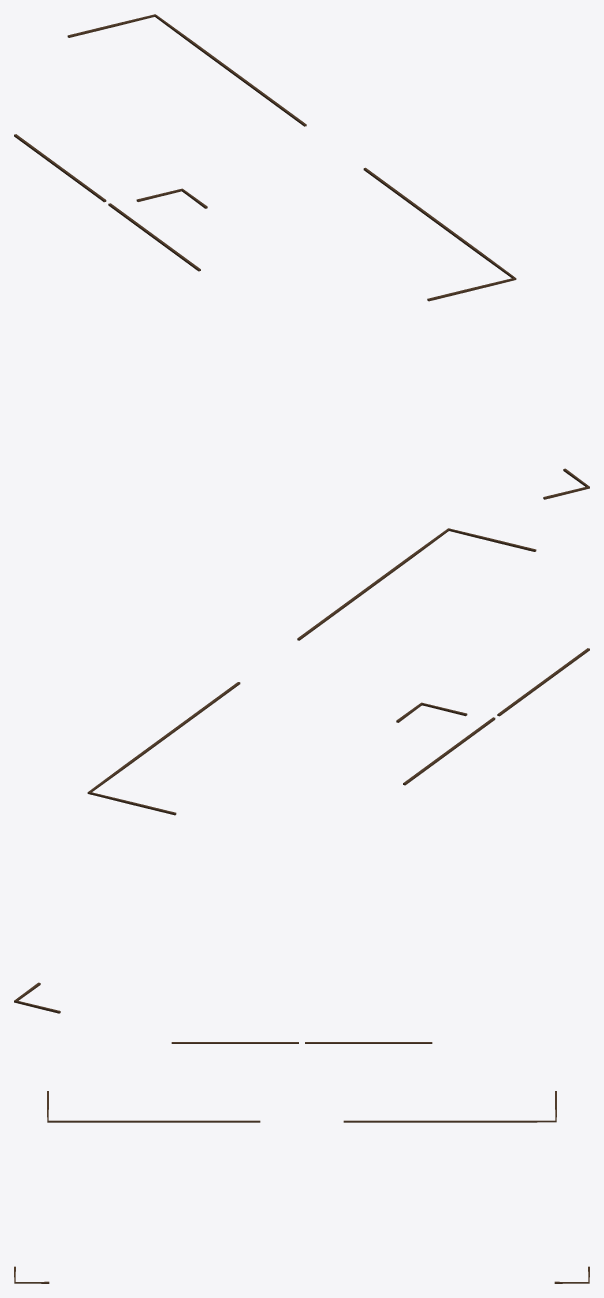
File: 001_BézierCurve.002.glb
The picture shows the model from 3 angles, top to bottom: view 1: azimuth 30°, elevation 25°; view 2: azimuth 150°, elevation 25°; view 3: azimuth 270°, elevation 25°; orthographic projection. The views are drawn at different scales.
Visible parts, largest first — view 1: 001_BézierCurve.002; view 2: 001_BézierCurve.002; view 3: 001_BézierCurve.002.
Part boxes in pixels (bbox=[...]): 001_BézierCurve.002: bbox=[14, 14, 589, 499]; 001_BézierCurve.002: bbox=[14, 528, 589, 1013]; 001_BézierCurve.002: bbox=[14, 1042, 589, 1283].
Size of the model in its own units: 8.44 by 5.91 by 21.26.
